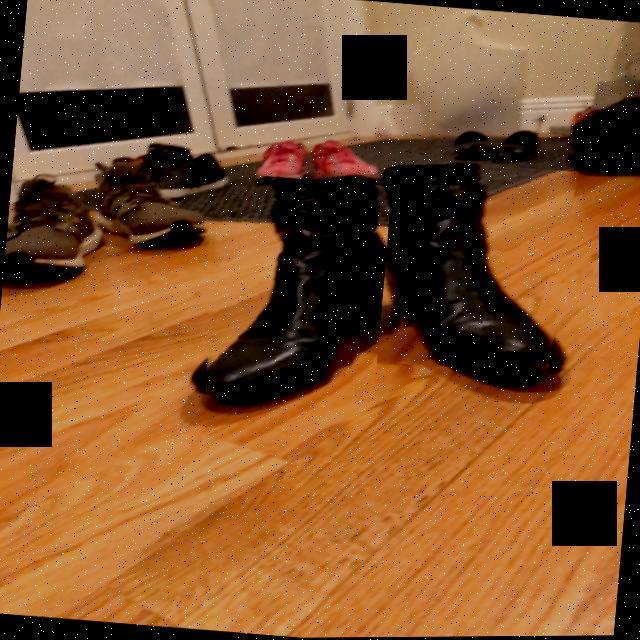shoe: (203, 183, 384, 395), (381, 163, 553, 371)
